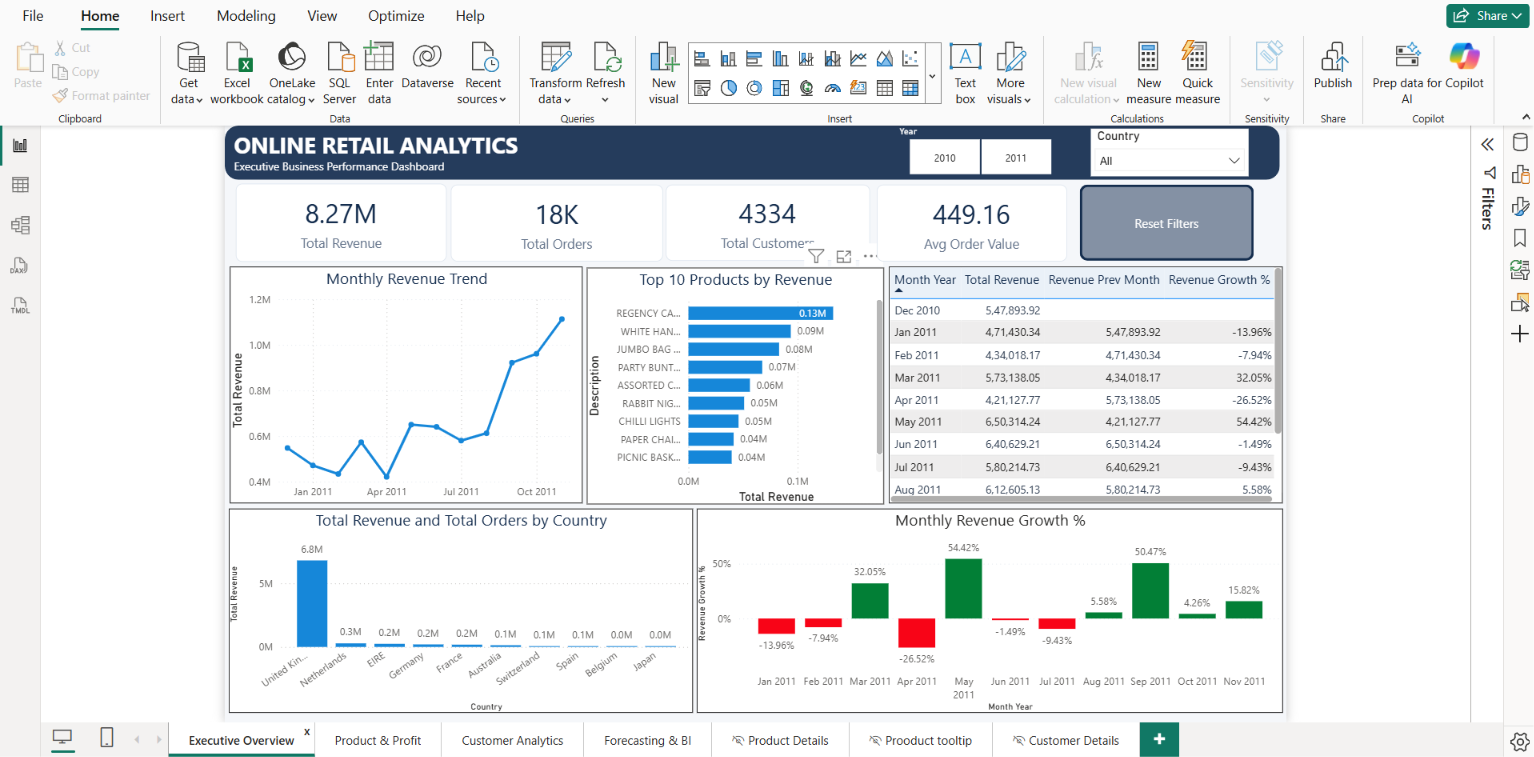

What the dashboard file says about the page in this screenshot:
{"tool":"powerbi","page":{"name":"Executive Overview","canvas":[1280,720],"ordinal":0},"visuals":[{"type":"card","fields":{"Values":["output.Total Revenue"]},"box":[13.3,70,254.6,94.1],"z":0},{"type":"card","fields":{"Values":["output.Total Orders"]},"box":[272.7,71.2,255.8,92.9],"z":1000},{"type":"card","fields":{"Values":["output.Total Customers"]},"box":[532,71.2,246.1,91.7],"z":2000},{"type":"lineChart","title":"Monthly Revenue Trend","fields":{"Category":["DateTable.Date.Variation.Date Hierarchy.Year","DateTable.Date.Variation.Date Hierarchy.Month"],"Y":["output.Total Revenue"]},"box":[6,170.1,425.9,285.9],"z":3000},{"type":"clusteredColumnChart","fields":{"Category":["output.Country"],"Y":["output.Total Revenue"]},"box":[4.8,462.1,559.8,246.1],"z":4000},{"type":"clusteredBarChart","title":"Top 10 Products by Revenue","fields":{"Category":["output.Description"],"Y":["output.Total Revenue"]},"box":[436.7,171.3,358.3,285.9],"z":5000},{"type":"clusteredColumnChart","title":"Monthly Revenue Growth %","fields":{"Category":["DateTable.Month Year"],"Y":["output.Revenue Growth %"]},"box":[569.4,462.1,707,246.1],"z":6000},{"type":"shape","box":[0,0,1272.8,65.4],"z":7000},{"type":"tableEx","fields":{"Values":["DateTable.Month Year","output.Total Revenue","output.Revenue Prev Month","output.Revenue Growth %"]},"box":[801.1,170.1,475.3,285.9],"z":10000},{"type":"textbox","box":[6.2,0,370.4,65.4],"z":11000},{"type":"card","fields":{"Values":["output.Avg Order Value"]},"box":[786.6,71.2,229.2,92.9],"z":12000},{"type":"actionButton","box":[1031.5,71.2,209.9,91.7],"z":13000},{"type":"slicer","fields":{"Values":["DateTable.Year"]},"box":[806.2,0,209.9,58],"z":13500},{"type":"slicer","fields":{"Values":["output.Country"]},"box":[1044.8,3.6,190.6,57.9],"z":14000}]}

Visuals, with their boxes on the page's 1280x720 design canvas (x1, y1, x2, y2). These are canvas units, not pixel positions in the 1534x757 screenshot, which may show the page scaled, cropped or inside an application window:
card - output.Total Revenue: [13, 70, 268, 164]
card - output.Total Orders: [273, 71, 528, 164]
card - output.Total Customers: [532, 71, 778, 163]
"Monthly Revenue Trend" lineChart: [6, 170, 432, 456]
clusteredColumnChart - output.Country x output.Total Revenue: [5, 462, 565, 708]
"Top 10 Products by Revenue" clusteredBarChart: [437, 171, 795, 457]
"Monthly Revenue Growth %" clusteredColumnChart: [569, 462, 1276, 708]
shape: [0, 0, 1273, 65]
tableEx - DateTable.Month Year x output.Total Revenue: [801, 170, 1276, 456]
textbox: [6, 0, 377, 65]
card - output.Avg Order Value: [787, 71, 1016, 164]
actionButton: [1032, 71, 1241, 163]
slicer - DateTable.Year: [806, 0, 1016, 58]
slicer - output.Country: [1045, 4, 1235, 62]
